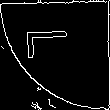L_E: (30, 39, 80, 71)
